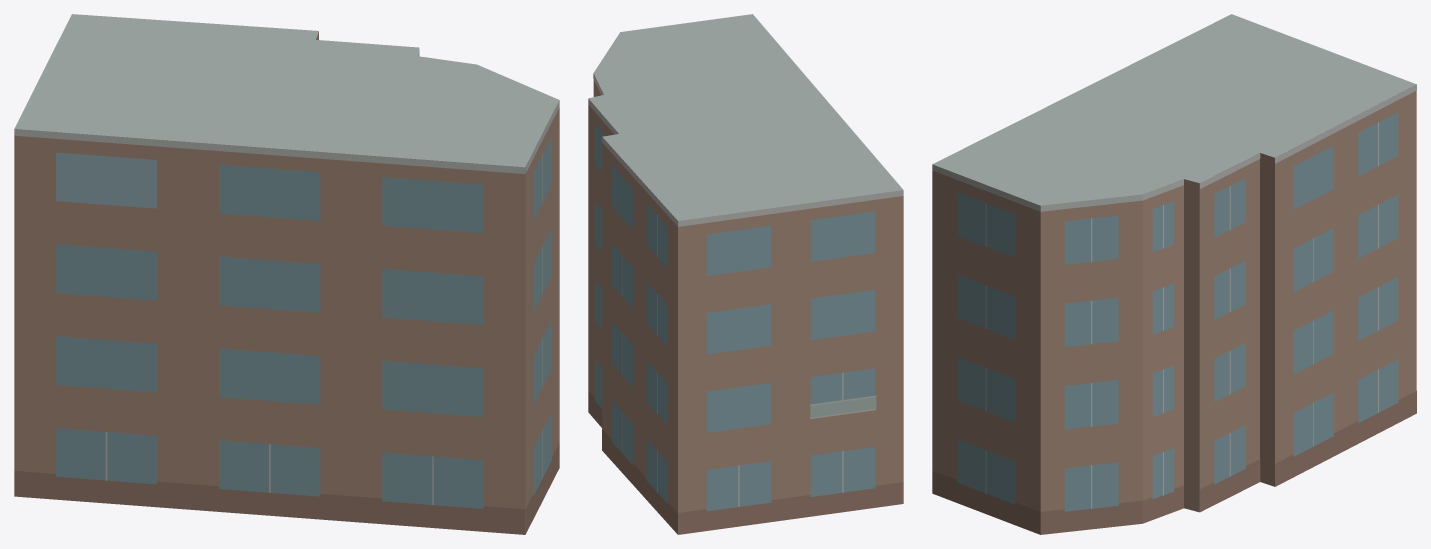
The model's file is survey-upis-32677917.glb.
3 views of the same model, side by side, from view 1: azimuth 30°, elevation 25°; view 2: azimuth 150°, elevation 25°; view 3: azimuth 270°, elevation 25° (orthographic). The views are drawn at different scales.
Parts seen in each view (by area): view 1: survey-upis-32677917.tmp; view 2: survey-upis-32677917.tmp; view 3: survey-upis-32677917.tmp.
Boxes of the visible parts, <box> form: survey-upis-32677917.tmp: <box>14,14,559,534</box>; survey-upis-32677917.tmp: <box>588,14,903,534</box>; survey-upis-32677917.tmp: <box>932,14,1416,534</box>.
Size of the model in its own units: 16.5 by 13.2 by 17.62.
